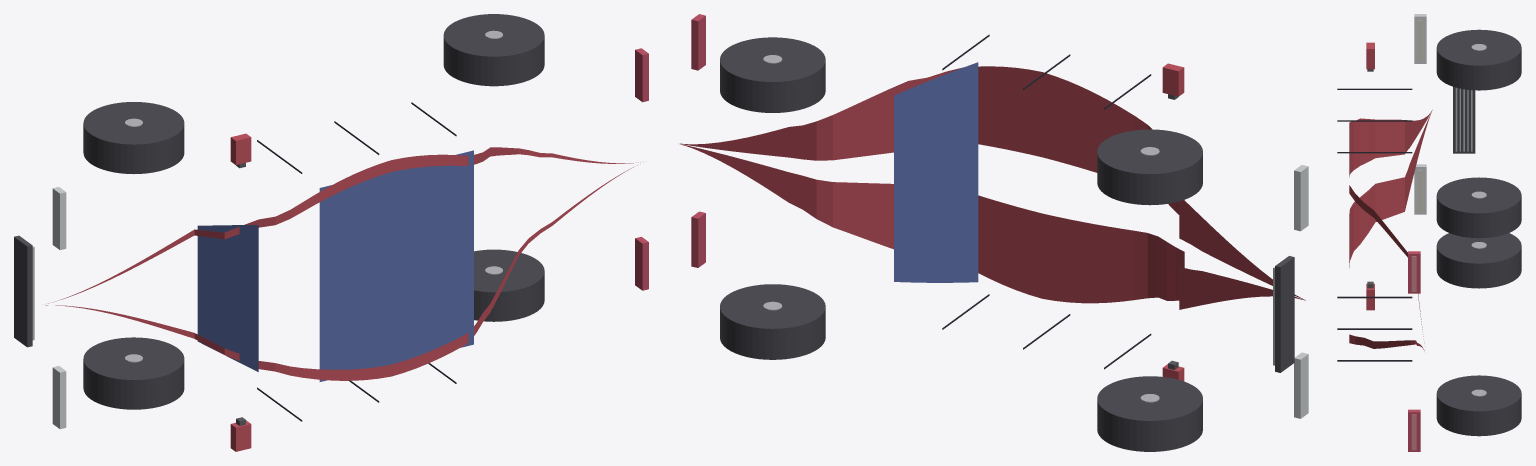
The picture shows the model from 3 angles, left to right: view 1: azimuth 30°, elevation 25°; view 2: azimuth 150°, elevation 25°; view 3: azimuth 270°, elevation 25°; orthographic projection. The views are drawn at different scales.
Visible parts, largest first — view 1: world; view 2: world; view 3: world.
Boxes of the visible parts, bbox=[...] form: world: bbox=[14, 14, 648, 451]; world: bbox=[680, 14, 1308, 451]; world: bbox=[1337, 14, 1521, 451].
Bounding box in the file's own units: 4.7 × 2.31 × 1.48.
